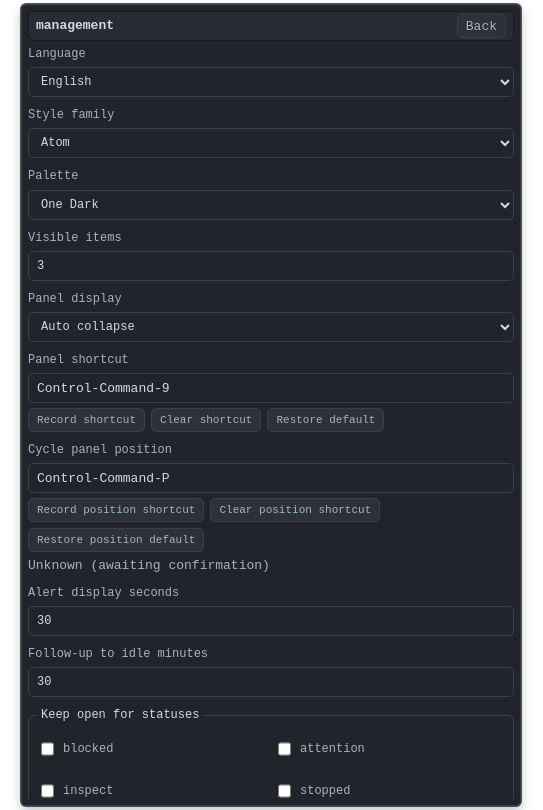
it: StatusPanelView › freezes all management settings controls while shortcut Apply is pending
The width and height of the screenshot is (543, 810).
What coordinates should you click on to do the following:
click the button "Clear shortcut"
I would click on:
 (206, 420)
Its box is [151, 408, 261, 432].
(page scrolled)
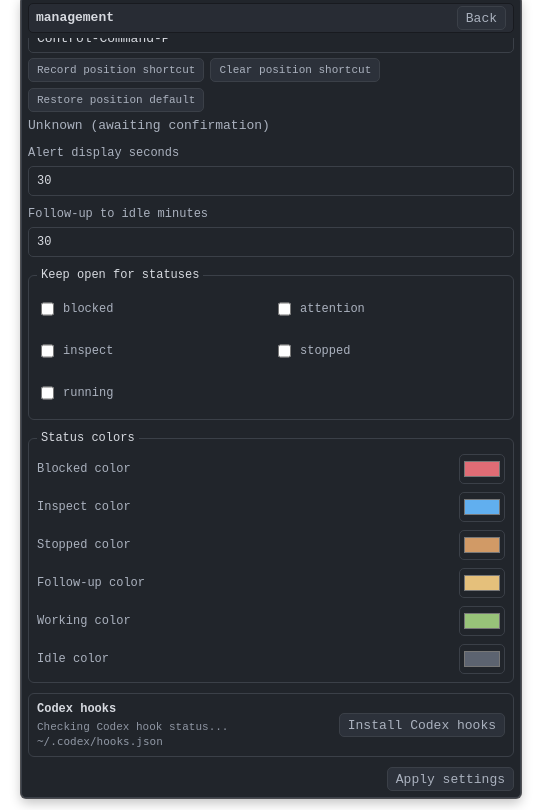
What coordinates should you click on to do the following:
click the button "Apply settings"
I would click on:
 (450, 779)
Its box is [387, 767, 514, 791].
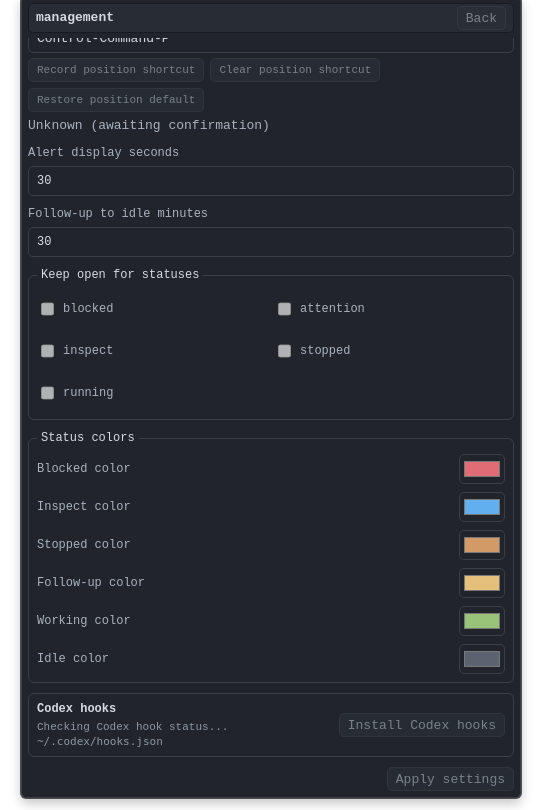
What coordinates should you click on to do the following:
click the checkbox labelled "blocked"
I would click on:
 (48, 309)
Its box is [41, 294, 54, 324].
(page scrolled)
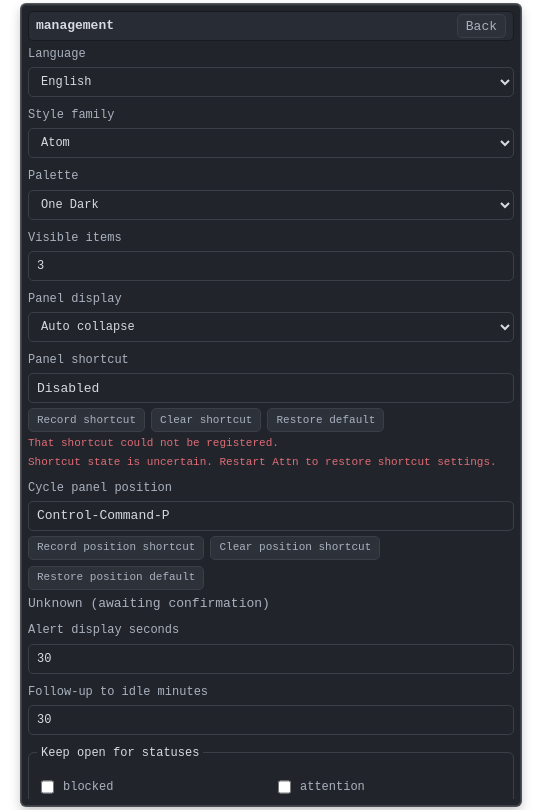
Expected: the checkbox labelled "blocked" is not checked, [41, 772, 54, 799]
Result: the dropdown labelled "Language" shows "English" at [28, 67, 514, 97]
Result: the number field labelled "Visible items" holds "3" at [28, 251, 514, 281]
